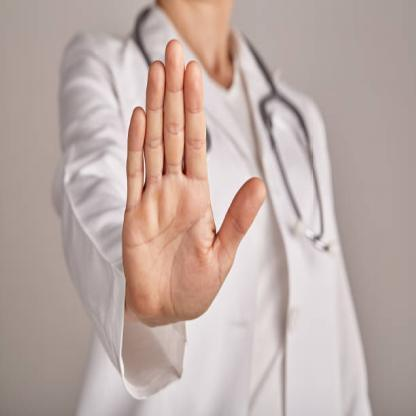stop: (120, 36, 268, 326)
